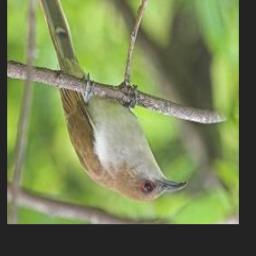Cuckoo: (37, 0, 189, 203)
